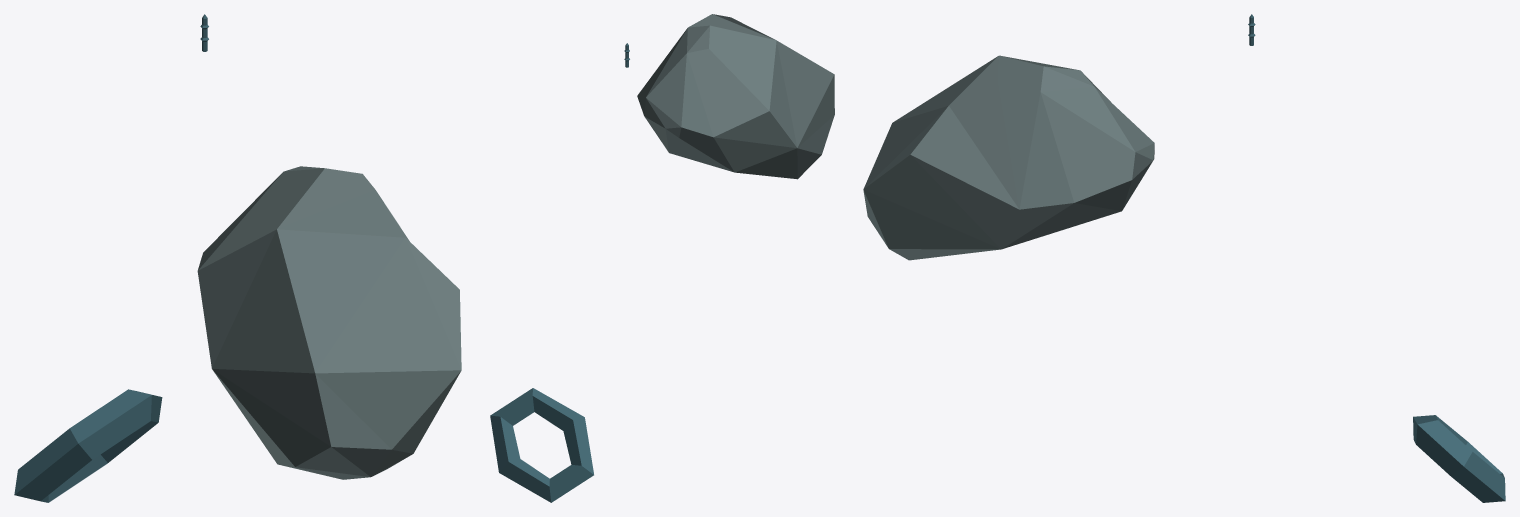
3 views of the same model, side by side, from view 1: azimuth 30°, elevation 25°; view 2: azimuth 150°, elevation 25°; view 3: azimuth 270°, elevation 25° (orthographic). The views are drawn at different scales.
Visible parts, largest first — view 1: Box797_rock_0, Torus084_metal_0; view 2: Box797_rock_0, Torus084_metal_0; view 3: Box797_rock_0, Torus084_metal_0.
Part boxes in pixels (x1,y1,x2,y2): Box797_rock_0: [197, 166, 461, 479]; Torus084_metal_0: [14, 389, 162, 502]; Box797_rock_0: [637, 14, 834, 179]; Torus084_metal_0: [490, 388, 593, 502]; Box797_rock_0: [863, 55, 1154, 260]; Torus084_metal_0: [1413, 415, 1505, 502].
Bounding box in the file's own units: 515 × 1316 × 1554.
